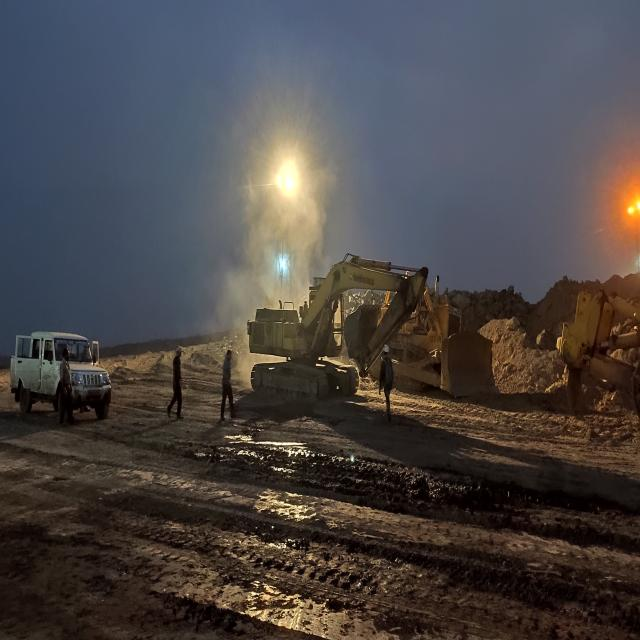excavator: (248, 253, 428, 398)
light_vehicle: (10, 331, 111, 420)
